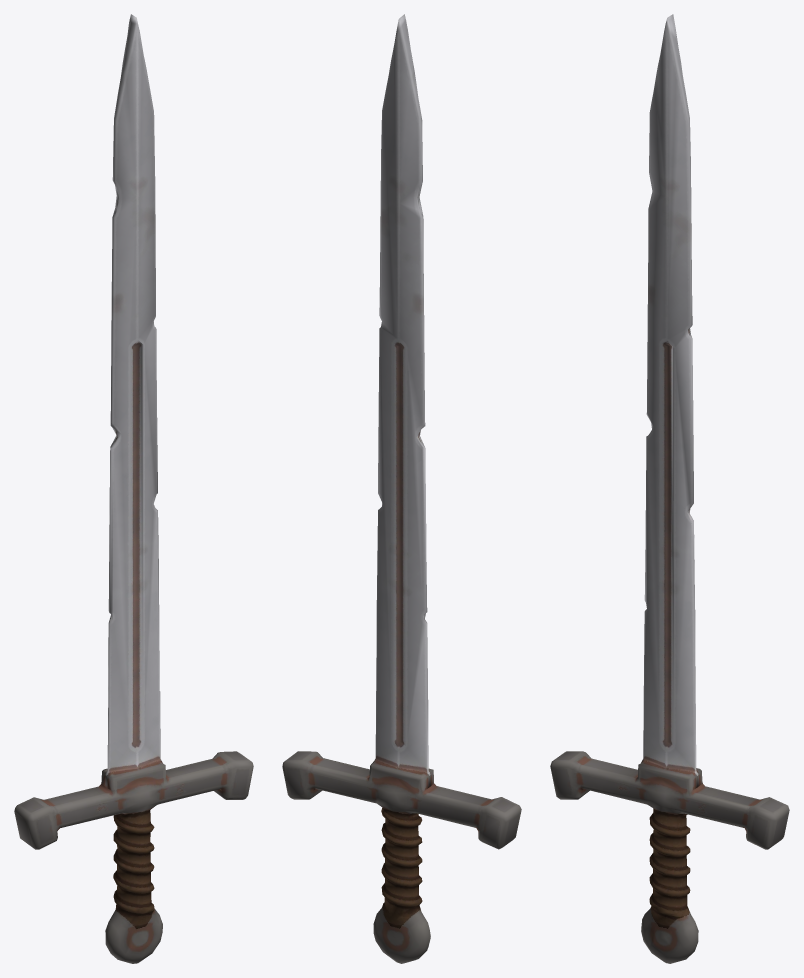
Rendered from weapon_sword_bone.glb.
3 views of the same model, side by side, from view 1: azimuth 30°, elevation 25°; view 2: azimuth 150°, elevation 25°; view 3: azimuth 330°, elevation 25° (orthographic).
Visible parts, largest first — view 1: weapon_sword_bone; view 2: weapon_sword_bone; view 3: weapon_sword_bone.
Boxes of the visible parts, x1,y1,x2,y2 form: weapon_sword_bone: (14, 14, 253, 963); weapon_sword_bone: (282, 14, 521, 963); weapon_sword_bone: (550, 14, 789, 963).
Bounding box in the file's own units: 0.2495 × 0.9978 × 0.0396.
Materials: 1 (1 with a texture image).
